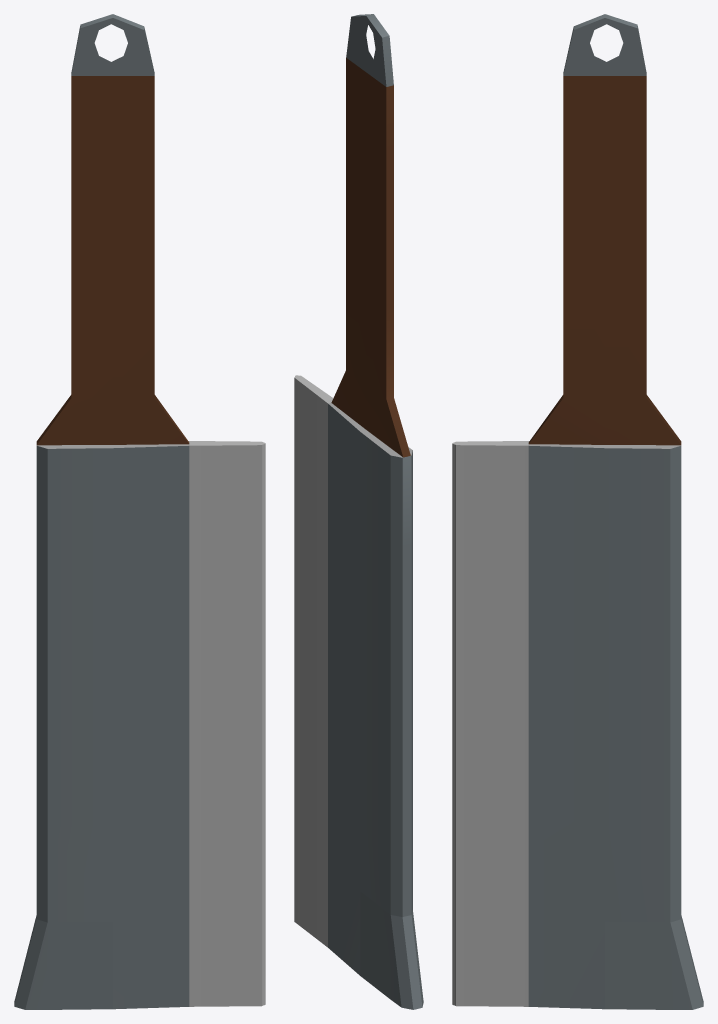
Rendered from Cleaver.fbx.
3 views of the same model, side by side, from view 1: azimuth 90°, elevation 25°; view 2: azimuth 210°, elevation 25°; view 3: azimuth 270°, elevation 25° (orthographic). The views are drawn at different scales.
Visible parts, largest first — view 1: Cleaver2; view 2: Cleaver2; view 3: Cleaver2.
Part boxes in pixels (x1,y1,x2,y2): Cleaver2: [14, 14, 265, 1009]; Cleaver2: [294, 14, 423, 1009]; Cleaver2: [452, 14, 703, 1009].
Size of the model in its own units: 1.22 by 50.63 by 11.68.
